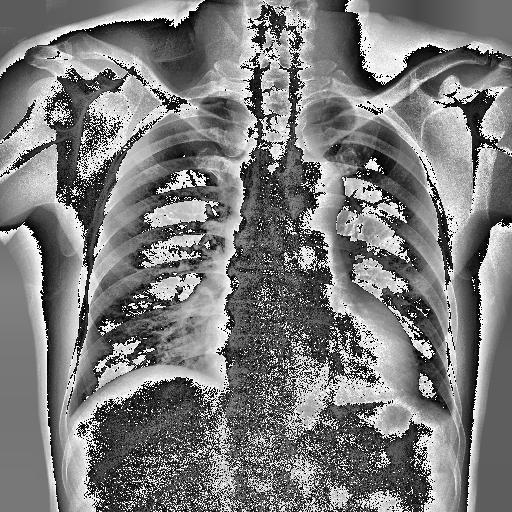0- Aortic enlargement: (282, 159, 345, 216), (290, 156, 346, 217)
10- Pleural effusion: (441, 402, 457, 428)
11- Pleural thickening: (441, 402, 457, 428), (440, 404, 456, 430)
3- Cardiomegaly: (206, 308, 424, 398), (202, 317, 418, 399)
